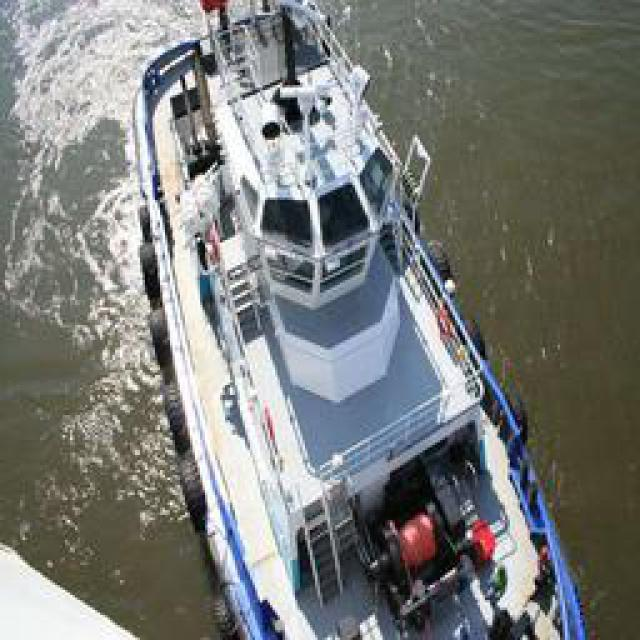Ship: (139, 1, 539, 589)
